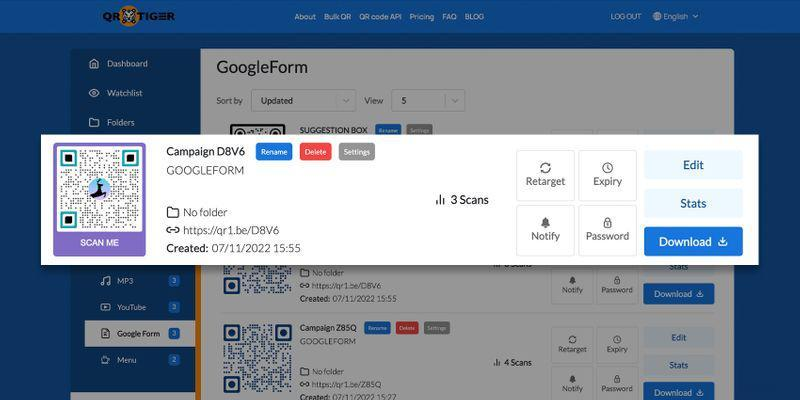button: (644, 150, 745, 181), (646, 188, 746, 219), (86, 321, 196, 348), (645, 228, 744, 257), (647, 355, 715, 377), (645, 284, 716, 305), (645, 329, 714, 349), (645, 382, 714, 400), (339, 143, 376, 162), (257, 144, 294, 162), (301, 143, 334, 163), (365, 323, 393, 336), (425, 321, 451, 335), (376, 124, 402, 136), (397, 322, 419, 335), (407, 125, 433, 136)
dropdown: (253, 91, 357, 112), (393, 90, 467, 113)
icon: (601, 161, 616, 176), (540, 163, 554, 178), (100, 275, 114, 289), (89, 116, 103, 130), (540, 216, 552, 230), (89, 59, 101, 72), (88, 89, 102, 100), (604, 216, 614, 230), (100, 303, 113, 313), (102, 355, 112, 366)
label: (107, 60, 152, 71), (107, 90, 143, 99), (108, 119, 137, 129), (117, 356, 140, 367), (119, 304, 148, 312), (118, 277, 137, 286)
